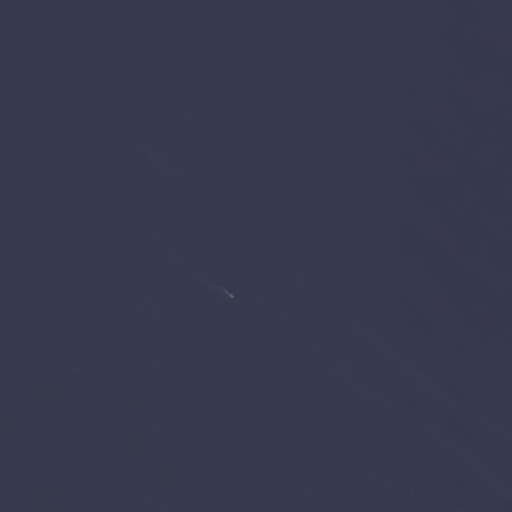ship: (221, 286, 238, 302)
